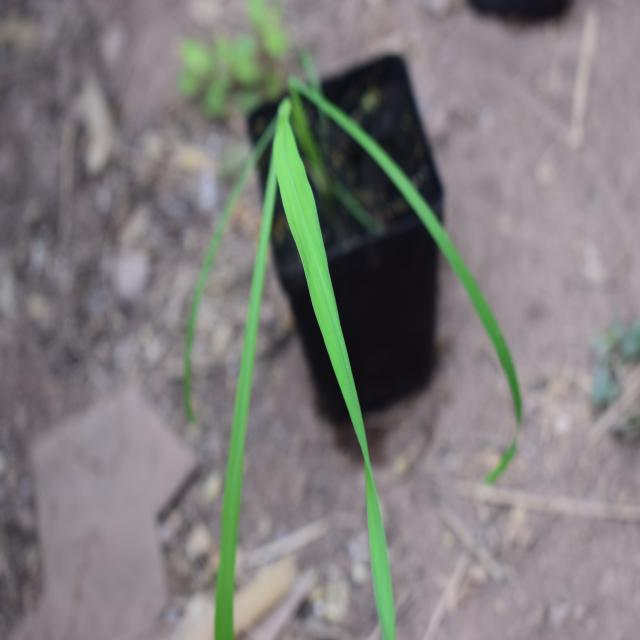barnyard_grass: (178, 92, 484, 605)
